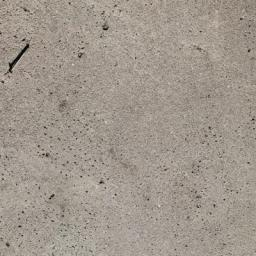FOD: (8, 41, 34, 77)
